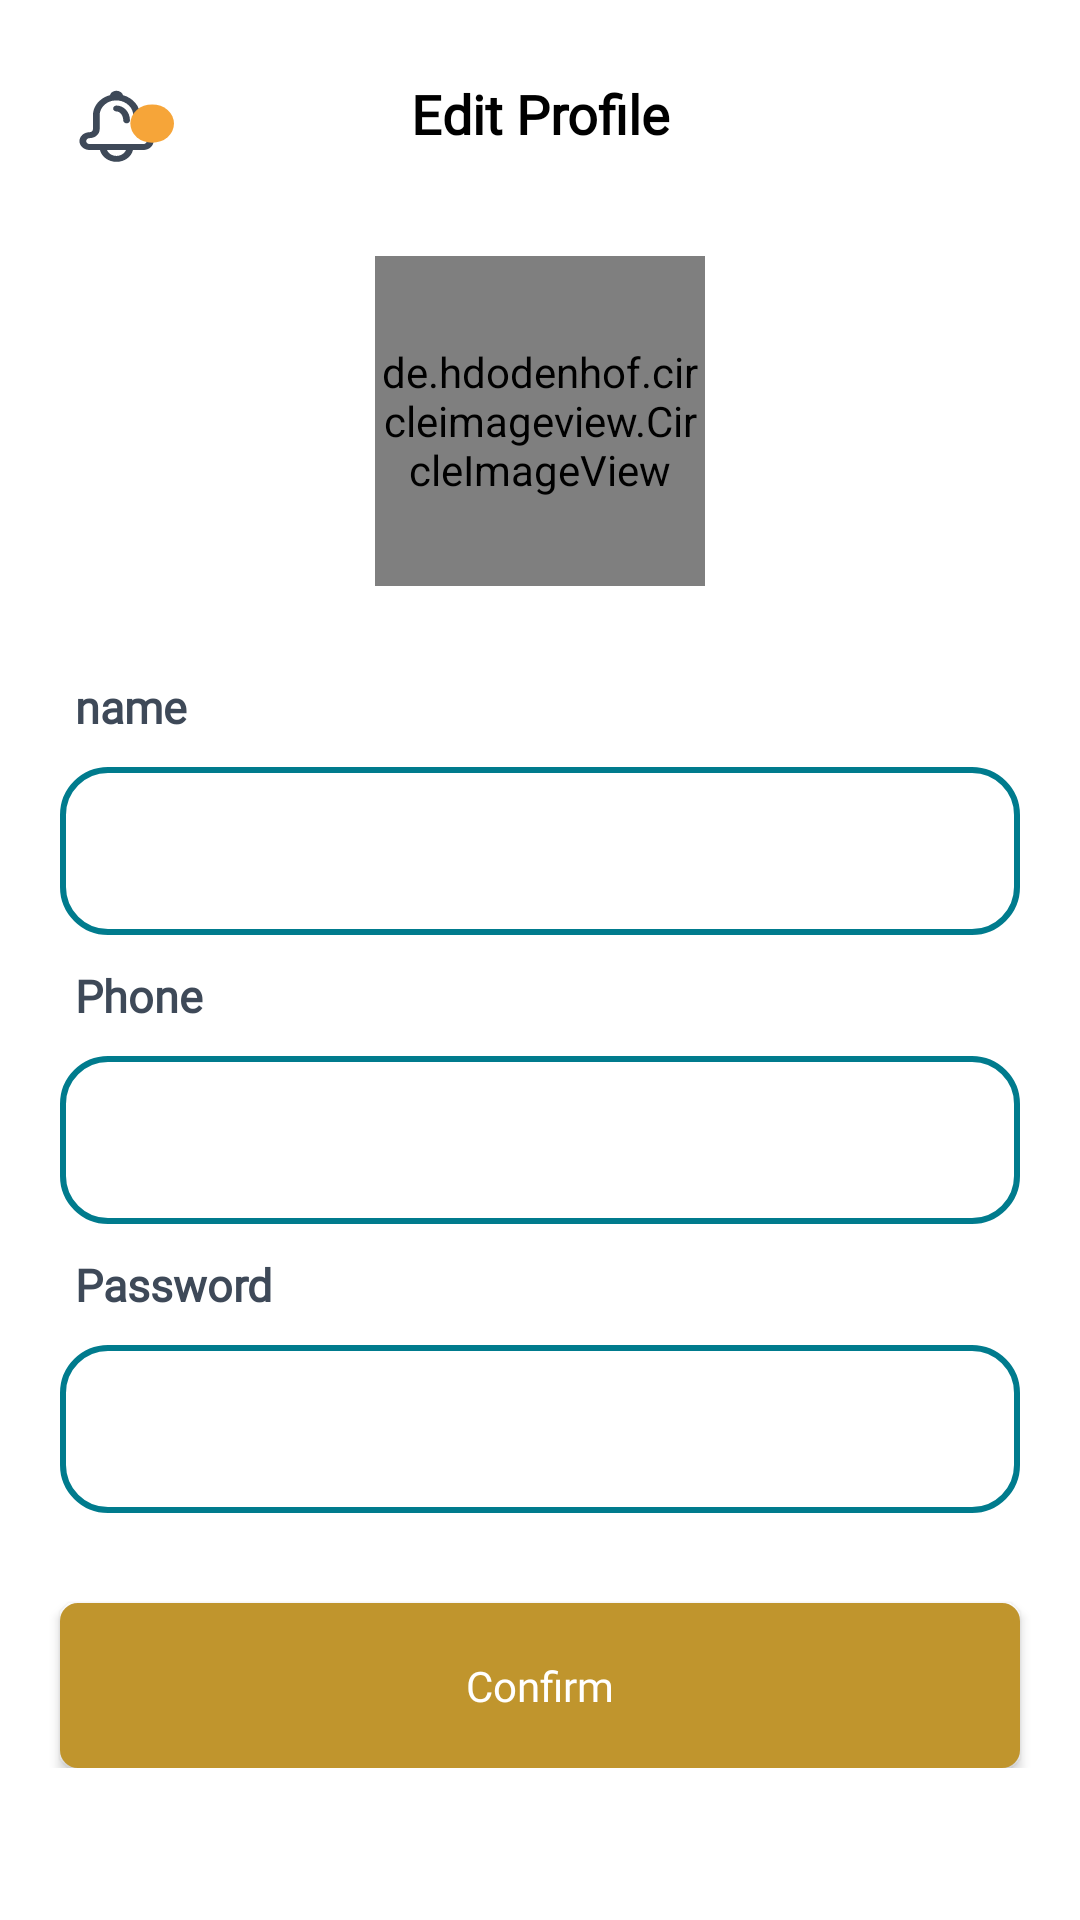

Icon click points for this 1080px x 1920px phone screenshot, format point (x, y):
notifications: point (126, 126)
